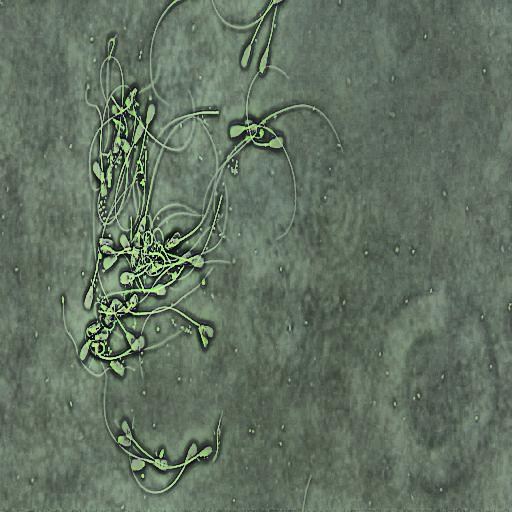folded-tail: (201, 124, 258, 223)
loose-head: (130, 457, 146, 473), (117, 434, 132, 448)
loose-tail: (146, 107, 222, 166), (148, 0, 181, 111)
normal: (230, 124, 296, 240), (100, 361, 168, 472), (83, 176, 137, 315), (93, 195, 140, 351), (128, 413, 200, 499), (201, 118, 258, 224), (112, 418, 215, 472), (139, 306, 214, 378), (99, 85, 137, 197), (122, 96, 159, 208), (112, 115, 146, 227), (246, 65, 290, 149), (238, 0, 274, 71), (258, 0, 281, 76)
